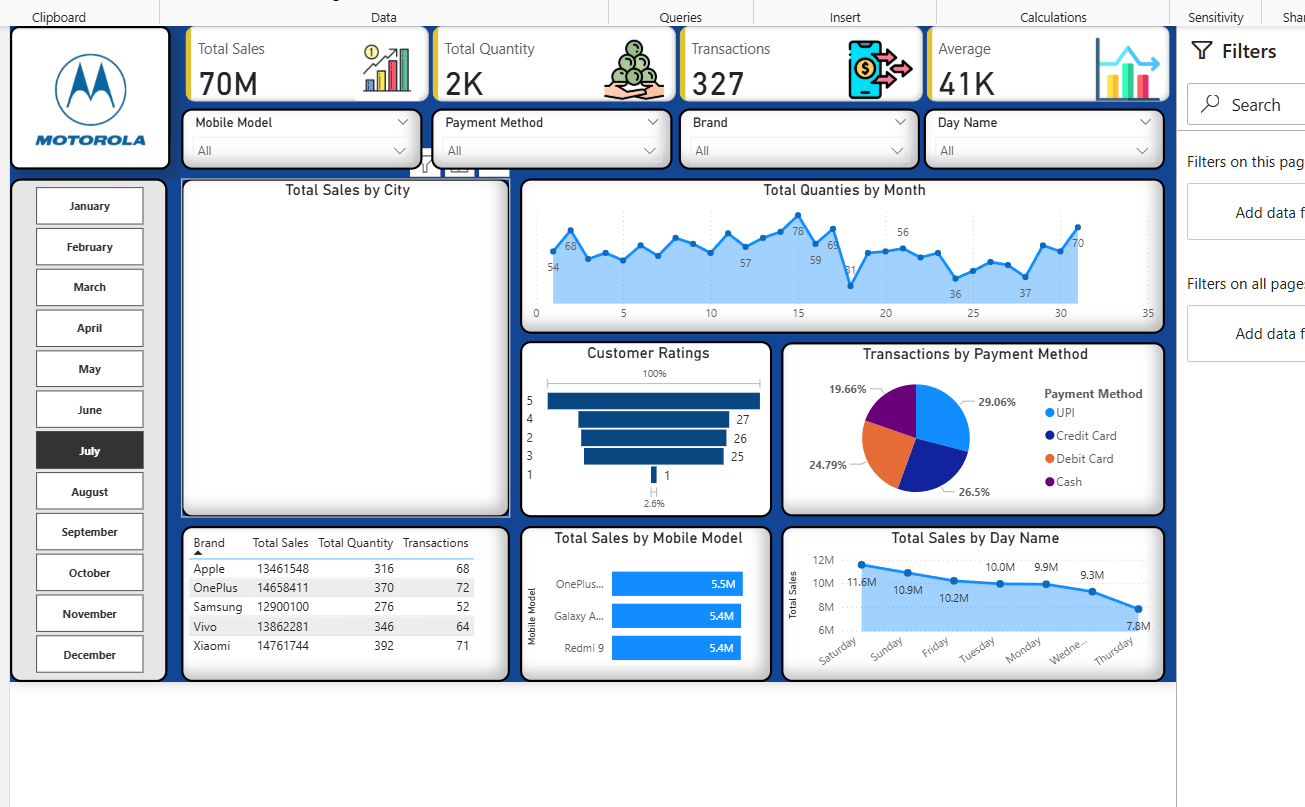

The dashboard page shown, as its layout file describes it:
{"tool":"powerbi","page":{"name":"Page 1","canvas":[1280,720],"ordinal":0},"visuals":[{"type":"shape","box":[0,0,175.6,134.5],"z":0},{"type":"shape","box":[0,167.4,163.3,553],"z":1000},{"type":"image","box":[0,0,175.6,157.8],"z":2000},{"type":"slicer","fields":{"Values":["Sales_Data.Date.Variation.Date Hierarchy.Month"]},"box":[0,167.4,172.9,553],"z":3000},{"type":"cardVisual","fields":{"Data":["Sales_Data.Total Sales","Sales_Data.Total Quantity","Sales_Data.Transactions","Sales_Data.Average"]},"box":[188,0,1092.3,90.6],"z":4000},{"type":"map","fields":{"Category":["Sales_Data.City"],"Size":["Sales_Data.Total Sales"]},"box":[188,167.4,360.9,371.9],"z":5000},{"type":"lineChart","title":"Total Quanties by Month","fields":{"Category":["Sales_Data.Date.Variation.Date Hierarchy.Month","Sales_Data.Date.Variation.Date Hierarchy.Day"],"Y":["Sales_Data.Total Quantity"]},"box":[559.9,167.4,708.1,170.2],"z":6000},{"type":"clusteredBarChart","fields":{"Category":["Sales_Data.Mobile Model"],"Y":["Sales_Data.Total Sales"]},"box":[559.9,548.9,277.2,171.5],"z":7000},{"type":"pieChart","fields":{"Category":["Sales_Data.Payment Method"],"Y":["Sales_Data.Transactions"]},"box":[847.1,347.1,421.4,191.4],"z":8000},{"type":"funnel","title":" Customer Ratings","fields":{"Category":["Sales_Data.Customer Ratings"],"Y":["CountNonNull(Sales_Data.Customer Ratings)"]},"box":[559.9,345.8,277.2,193.5],"z":9000},{"type":"areaChart","fields":{"Category":["Sales_Data.Day Name"],"Y":["Sales_Data.Total Sales"]},"box":[846.7,548.9,421.3,171.5],"z":10000},{"type":"tableEx","fields":{"Values":["Sales_Data.Brand","Sales_Data.Total Sales","Sales_Data.Total Quantity","Sales_Data.Transactions"]},"box":[188,548.9,360.9,171.5],"z":11000},{"type":"slicer","fields":{"Values":["Sales_Data.Mobile Model"]},"box":[188,90.6,264.8,67.2],"z":12000},{"type":"slicer","fields":{"Values":["Sales_Data.Brand"]},"box":[734.1,90.6,264.8,67.2],"z":13000},{"type":"slicer","fields":{"Values":["Sales_Data.Payment Method"]},"box":[462.4,90.6,264.8,67.2],"z":14000},{"type":"slicer","fields":{"Values":["Sales_Data.Day Name"]},"box":[1003.1,90.6,264.8,67.2],"z":15000}]}

Visuals, with their boxes on the page's 1280x720 design canvas (x1, y1, x2, y2). These are canvas units, not pixel positions in the 1305x807 screenshot, which may show the page scaled, cropped or inside an application window:
shape: l=0, t=0, r=176, b=134
shape: l=0, t=167, r=163, b=720
image: l=0, t=0, r=176, b=158
slicer - Sales_Data.Date.Variation.Date Hierarchy.Month: l=0, t=167, r=173, b=720
cardVisual - Sales_Data.Total Sales x Sales_Data.Total Quantity: l=188, t=0, r=1280, b=91
map - Sales_Data.City x Sales_Data.Total Sales: l=188, t=167, r=549, b=539
"Total Quanties by Month" lineChart: l=560, t=167, r=1268, b=338
clusteredBarChart - Sales_Data.Mobile Model x Sales_Data.Total Sales: l=560, t=549, r=837, b=720
pieChart - Sales_Data.Payment Method x Sales_Data.Transactions: l=847, t=347, r=1268, b=538
" Customer Ratings" funnel: l=560, t=346, r=837, b=539
areaChart - Sales_Data.Day Name x Sales_Data.Total Sales: l=847, t=549, r=1268, b=720
tableEx - Sales_Data.Brand x Sales_Data.Total Sales: l=188, t=549, r=549, b=720
slicer - Sales_Data.Mobile Model: l=188, t=91, r=453, b=158
slicer - Sales_Data.Brand: l=734, t=91, r=999, b=158
slicer - Sales_Data.Payment Method: l=462, t=91, r=727, b=158
slicer - Sales_Data.Day Name: l=1003, t=91, r=1268, b=158
